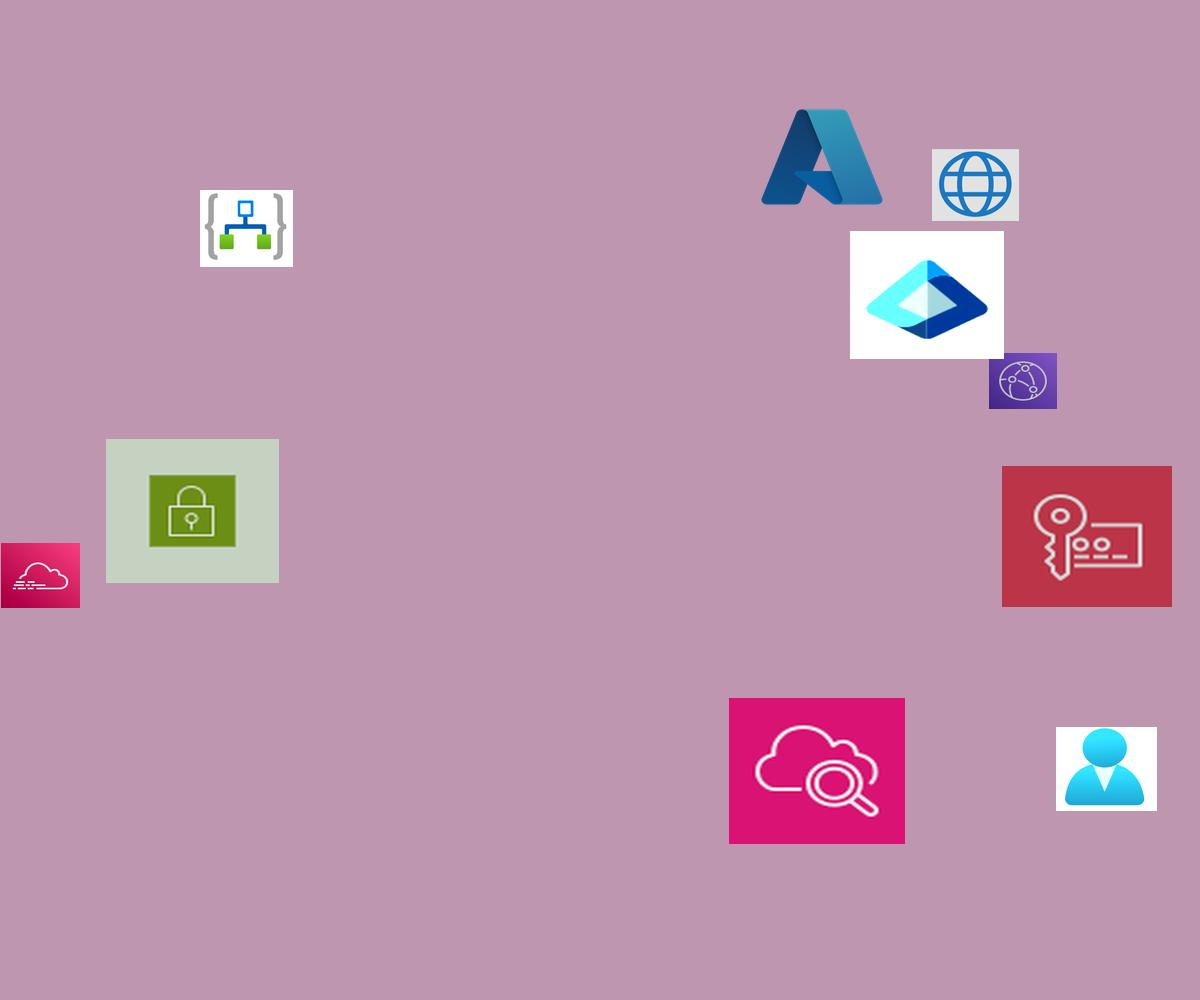AWS-CloudFront: (989, 353, 1057, 409)
AWS-CloudTrail: (1, 543, 80, 608)
AWS-CloudWatch: (729, 698, 905, 844)
AWS-Key-Management-Service: (1002, 466, 1172, 607)
AWS-Public-subnet: (106, 439, 279, 583)
Azure_http: (932, 149, 1019, 221)
Azure_integration-204-Logic-Apps: (200, 190, 293, 267)
Azure_microsoft_entra: (850, 231, 1004, 359)
Azure_services: (756, 102, 888, 212)
Azure_users: (1056, 727, 1157, 811)
